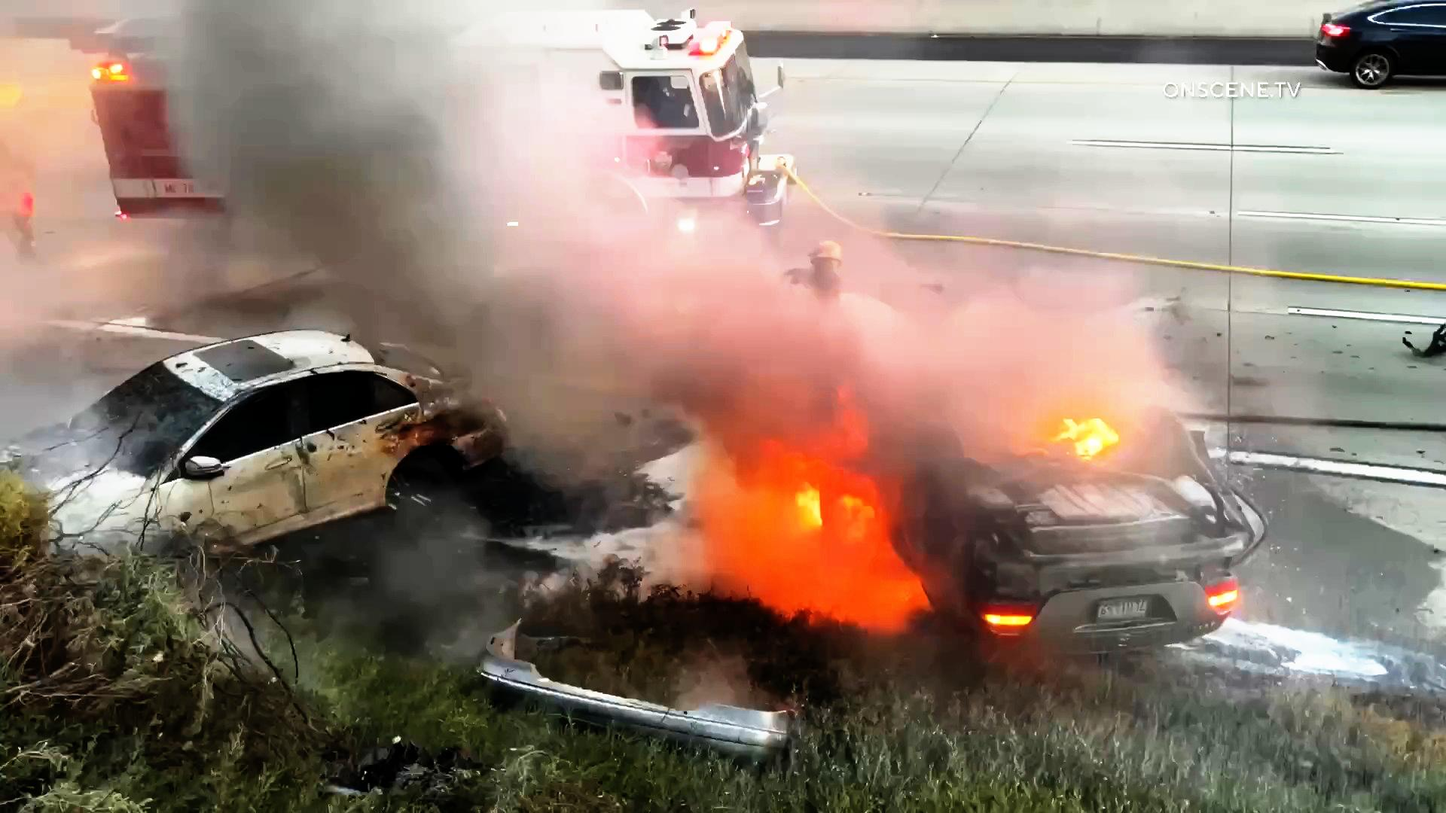fire: (1051, 409, 1121, 461)
smoke: (129, 0, 602, 287), (630, 201, 863, 445), (881, 238, 1152, 410), (448, 299, 621, 476)
